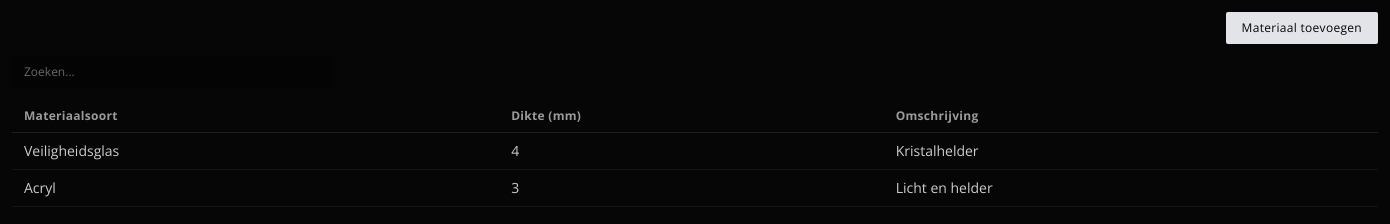
MaterialenSection › filters by materiaalsoort name via the global search
Type "Acryl" into the field with test id "data-table-search" at (172, 72), box [12,56,332,88]
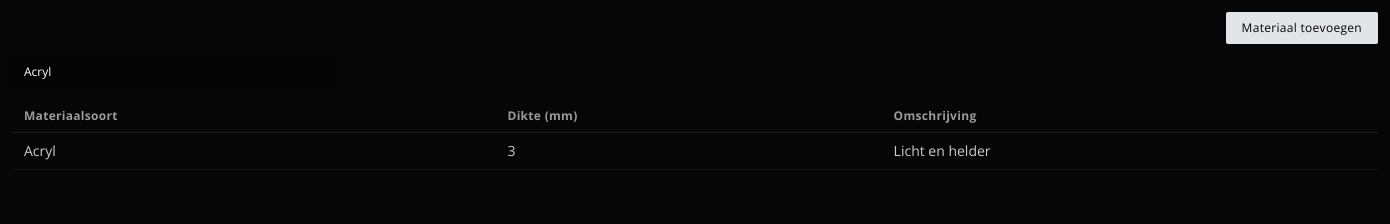
Expected: the row with test id "data-table-row-mat-2" is shown, [12,132,1378,170]
Now the row with test id "data-table-row-mat-1" is gone
